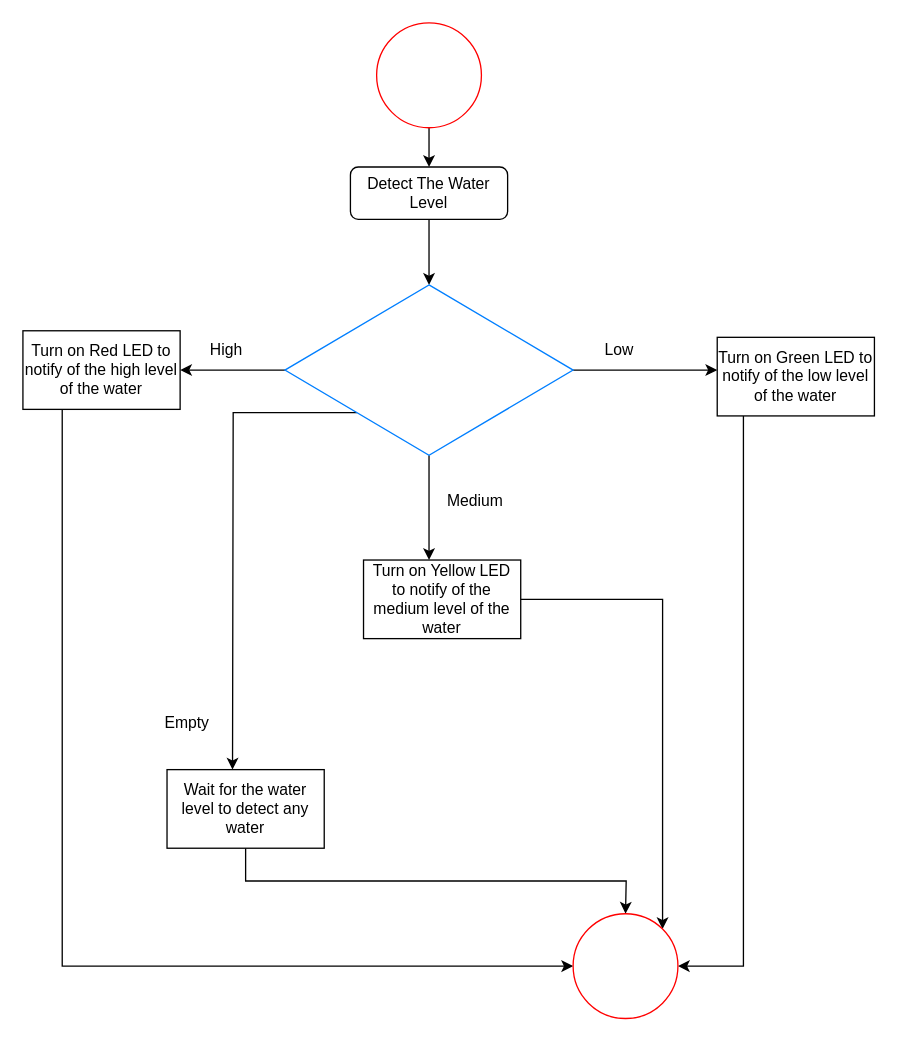
This 897x1041 diagram has some shape labels left out. The box of each missing label's shape, as (x1, y1, x2, y2) in pixels:
High or Medium or Low or Empty: (284, 284, 573, 455)
Start: (375, 22, 481, 128)
Stop: (572, 912, 678, 1019)
